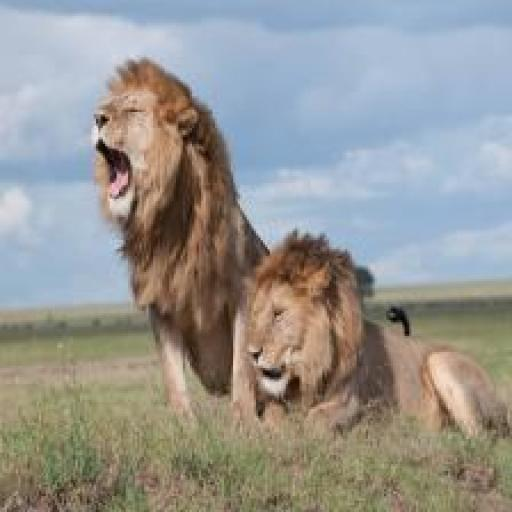lion: (242, 201, 512, 442), (82, 62, 266, 414)
